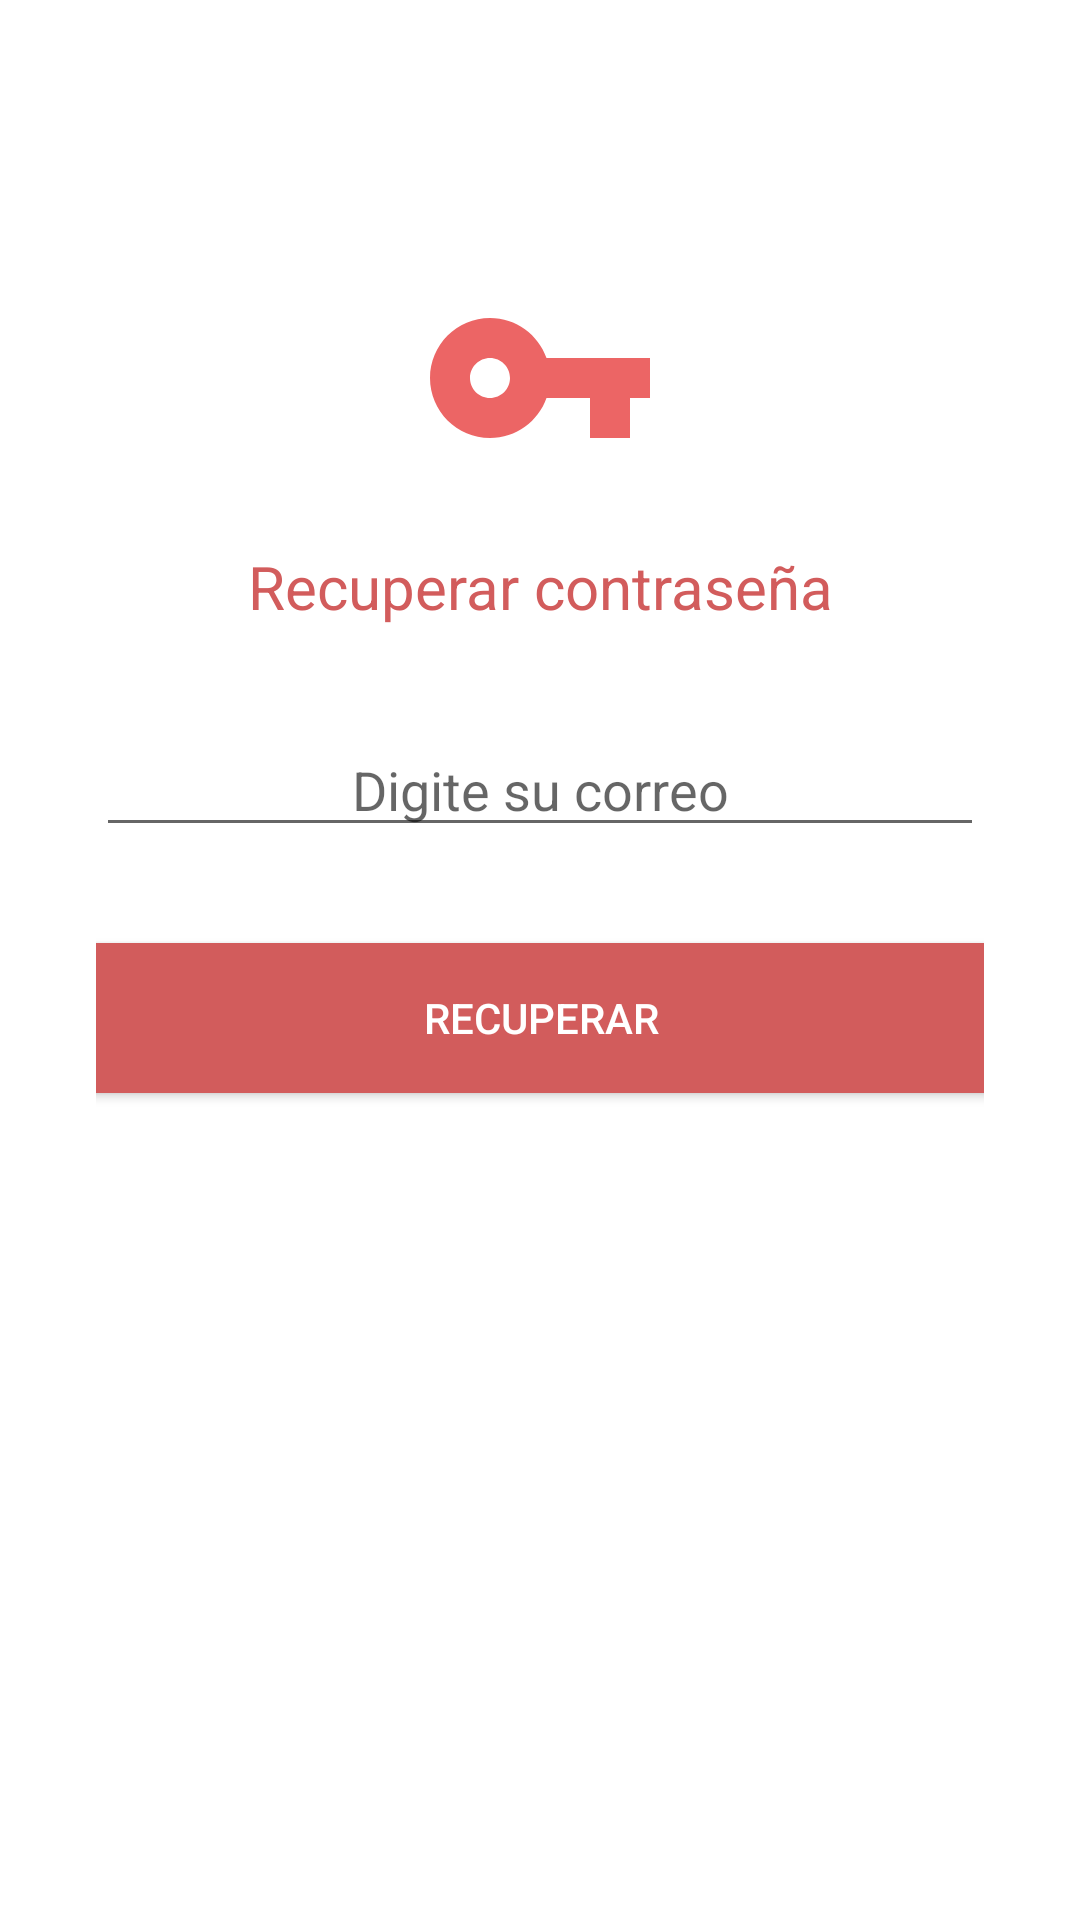

Named icons in this screenshot (1080x1920) and their centers, point (x, y):
lost pass: point (540, 378)
